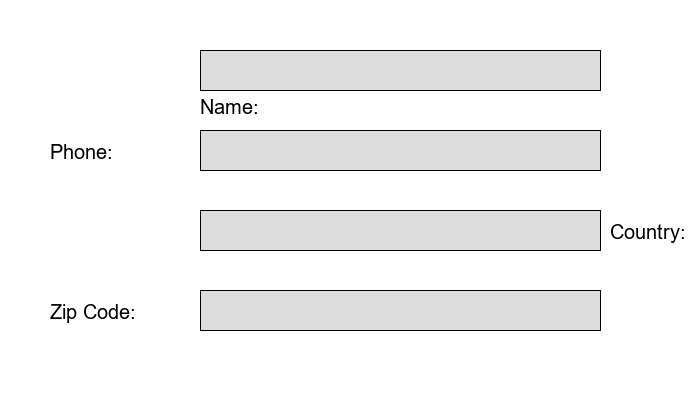Label: (50, 300, 130, 319), (610, 220, 680, 239), (50, 140, 107, 155), (200, 95, 253, 110)
Textbox: (200, 50, 600, 90), (200, 130, 600, 170), (200, 210, 600, 250), (200, 290, 600, 330)
